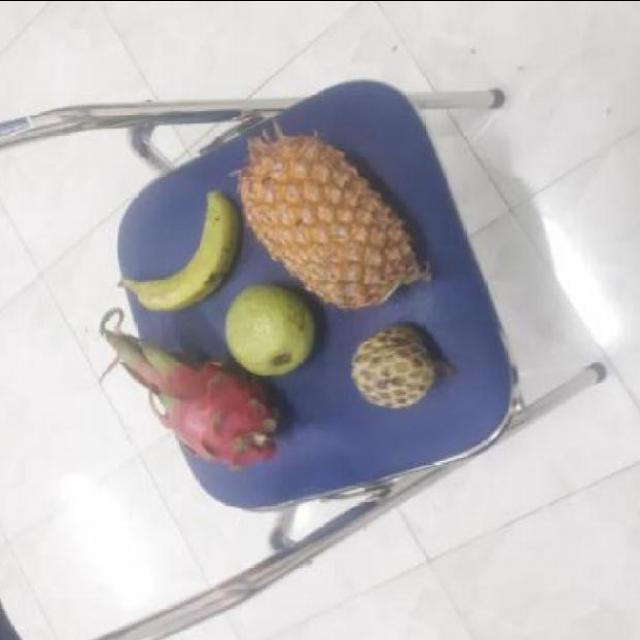banana: (120, 184, 240, 308)
dragon fruit: (145, 338, 280, 464)
guava: (225, 278, 319, 376)
pineapple: (241, 125, 422, 306)
sugar apple: (352, 315, 440, 405)
